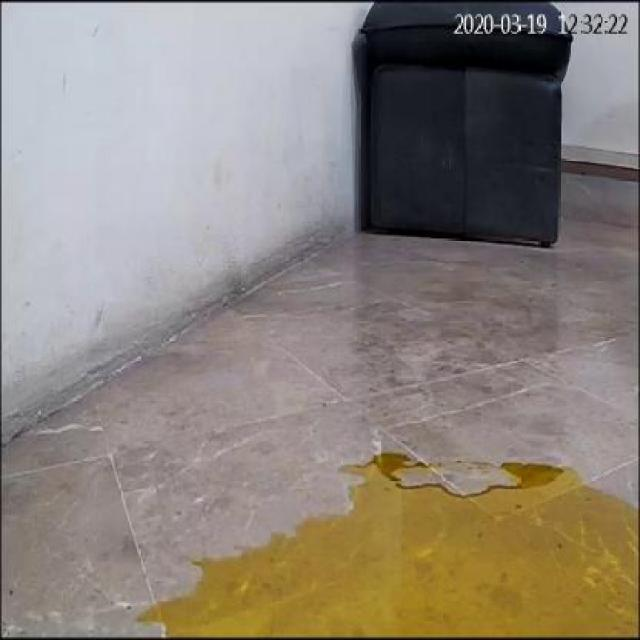spill: (136, 448, 638, 634)
